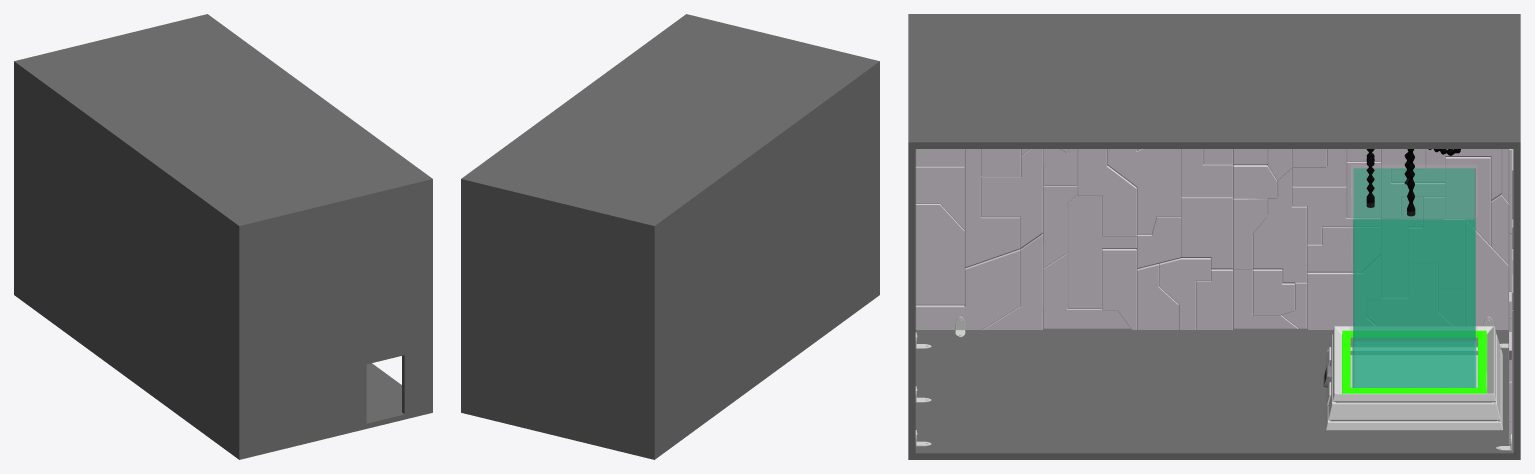
The model's file is SalaFinal.fbx.
3 renders of one model, left to right at view 1: azimuth 30°, elevation 25°; view 2: azimuth 150°, elevation 25°; view 3: azimuth 270°, elevation 25°, orthographic. The views are drawn at different scales.
Visible parts, largest first — view 1: Cube.022; view 2: Cube.022; view 3: Cube.022, Plane.112, Cube.023, Plane.116, Plane.110.
Part boxes in pixels (x1=…): Cube.022: x1=14, y1=14, x2=432, y2=459; Cube.022: x1=461, y1=14, x2=879, y2=459; Cube.022: x1=908, y1=14, x2=1520, y2=459; Plane.112: x1=915, y1=149, x2=1508, y2=330; Cube.023: x1=1325, y1=164, x2=1502, y2=430; Plane.116: x1=1508, y1=149, x2=1513, y2=452; Plane.110: x1=1366, y1=149, x2=1460, y2=216.
Size of the model in its own units: 6150 by 7100 by 12400.
